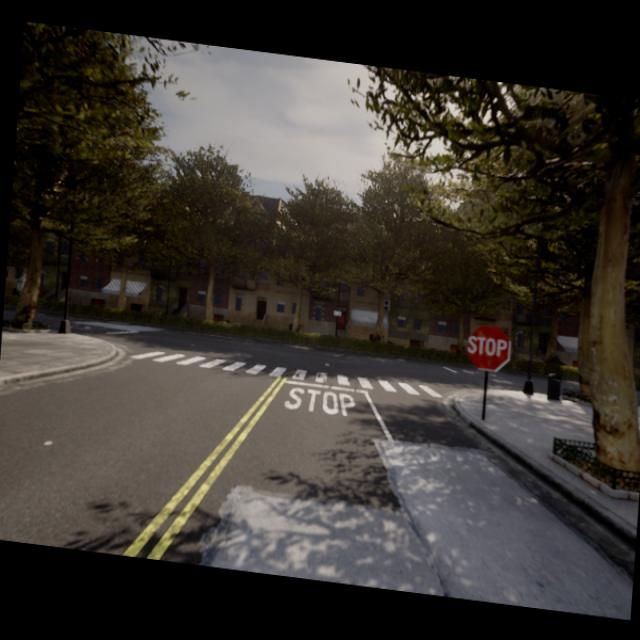stop sign: (464, 321, 512, 373), (466, 334, 508, 358)
